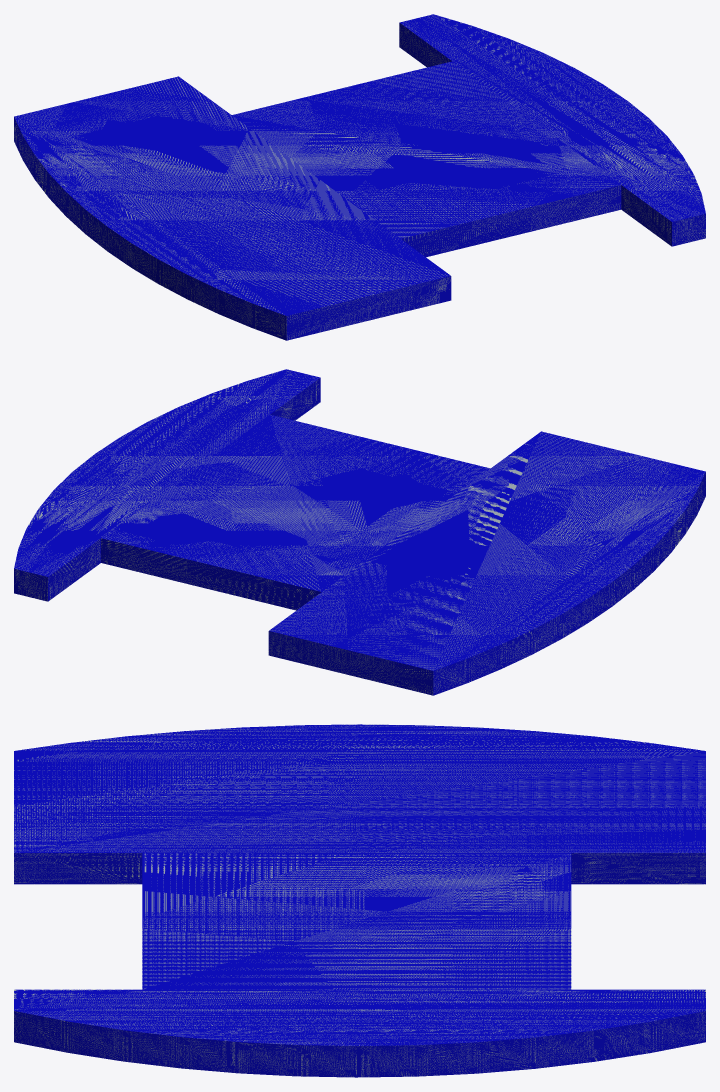
3 views of the same model, one above another, from view 1: azimuth 30°, elevation 25°; view 2: azimuth 150°, elevation 25°; view 3: azimuth 270°, elevation 25° (orthographic). The views are drawn at different scales.
Visible parts, largest first — view 1: SketchUp; view 2: SketchUp; view 3: SketchUp.
Part boxes in pixels (bbox=[...]): SketchUp: bbox=[14, 14, 705, 340]; SketchUp: bbox=[14, 369, 705, 695]; SketchUp: bbox=[14, 724, 705, 1077].
Size of the model in its own units: 43.31 by 39.37 by 1.97.
